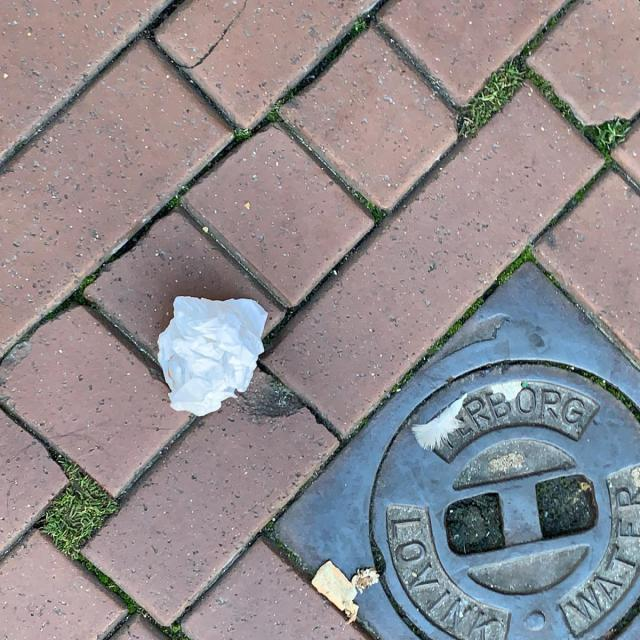Paper: (155, 294, 271, 418)
